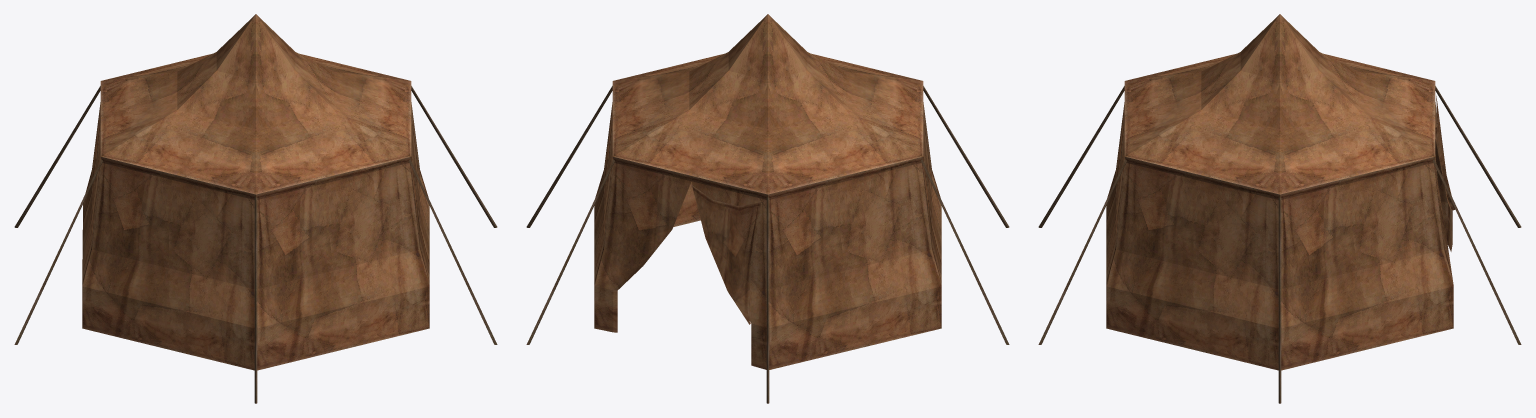
File: thm_tato_tent_house_s01_l0.fbx
The picture shows the model from 3 angles, left to right: view 1: azimuth 30°, elevation 25°; view 2: azimuth 150°, elevation 25°; view 3: azimuth 270°, elevation 25°; orthographic projection.
Visible parts, largest first — view 1: mesh_node; view 2: mesh_node; view 3: mesh_node.
Boxes of the visible parts, x1,y1,x2,y2 form: mesh_node: [14, 14, 497, 403]; mesh_node: [526, 14, 1009, 403]; mesh_node: [1038, 14, 1521, 403].
Size of the model in its own units: 11.99 by 6.45 by 10.38.
